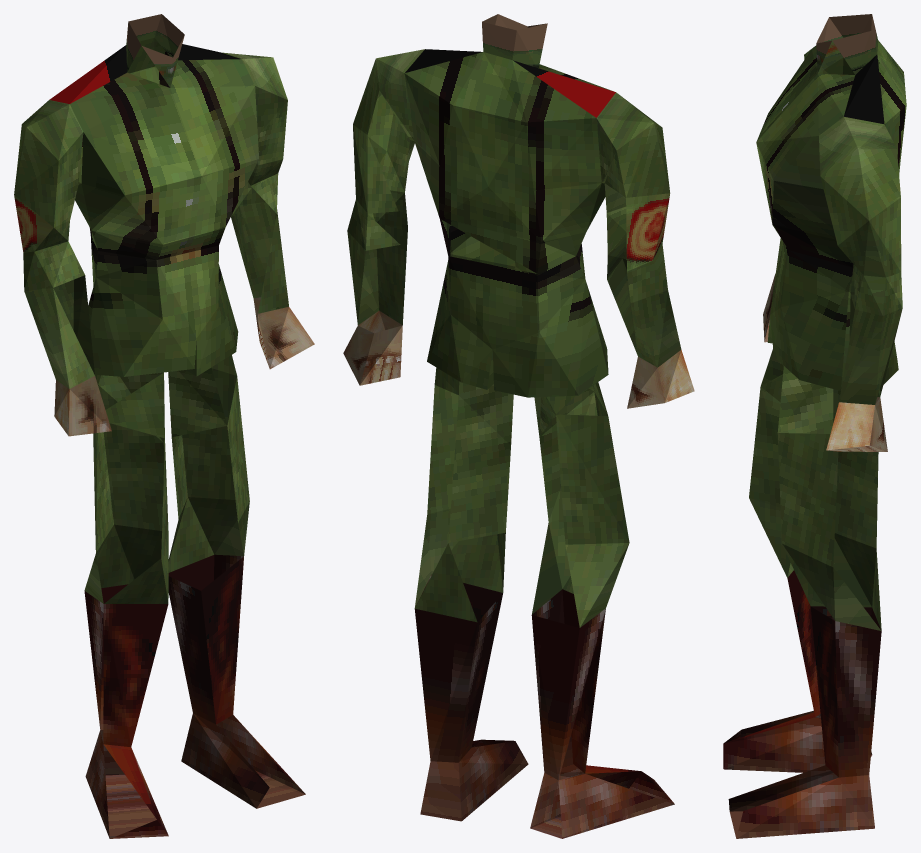
File: primary_116.glb
3 renders of one model, left to right at view 1: azimuth 30°, elevation 25°; view 2: azimuth 150°, elevation 25°; view 3: azimuth 270°, elevation 25°, orthographic. The views are drawn at different scales.
Parts seen in each view (by area): view 1: Object; view 2: Object; view 3: Object.
Part boxes in pixels (bbox=[...]): Object: bbox=[14, 14, 314, 838]; Object: bbox=[343, 14, 694, 838]; Object: bbox=[723, 14, 906, 838].
Bounding box in the file's own units: 0.7429 × 1.83 × 0.3935.
Materials: 64 (64 with a texture image).
